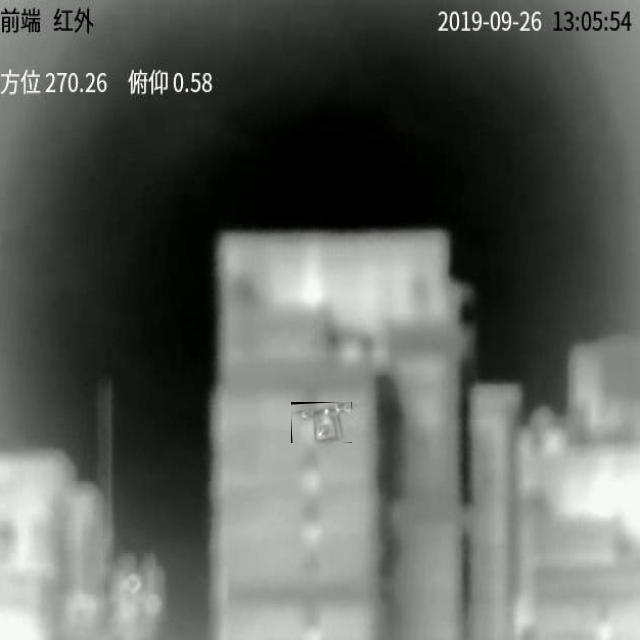drone: (291, 402, 352, 443)
